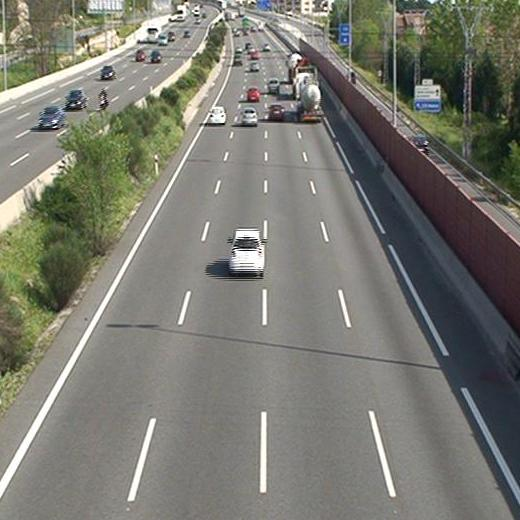car: (229, 229, 264, 274), (208, 107, 226, 124), (241, 108, 257, 124), (268, 104, 284, 119), (267, 77, 280, 92), (247, 87, 260, 100), (250, 62, 260, 72), (234, 55, 243, 64)
tank-truck: (299, 79, 323, 122), (288, 54, 310, 81)
